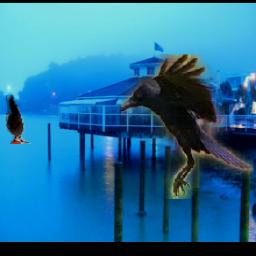Crow: (121, 55, 254, 200)
Woodpecker: (6, 95, 31, 144)
